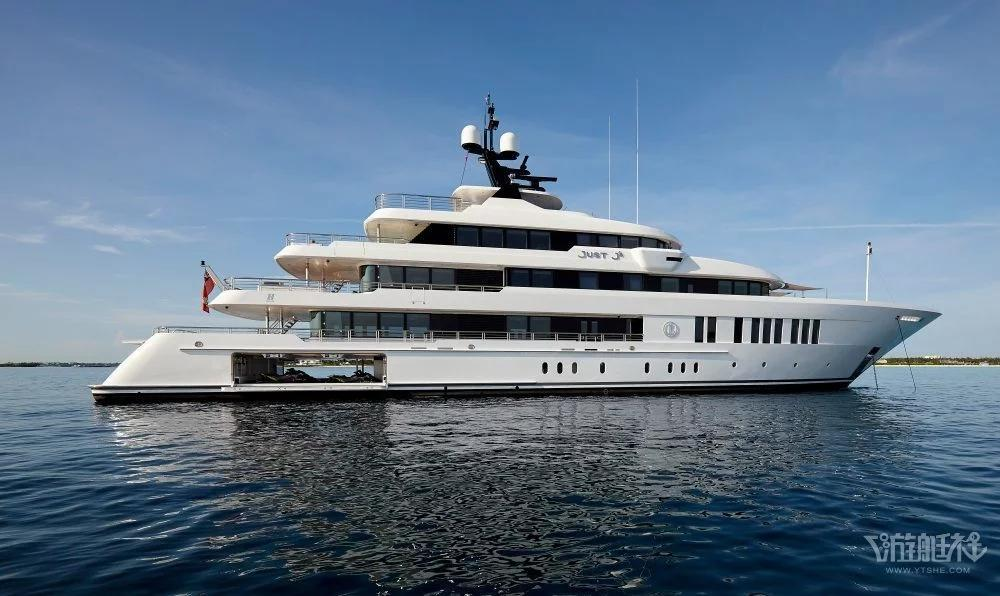yacht: (91, 103, 942, 406)
